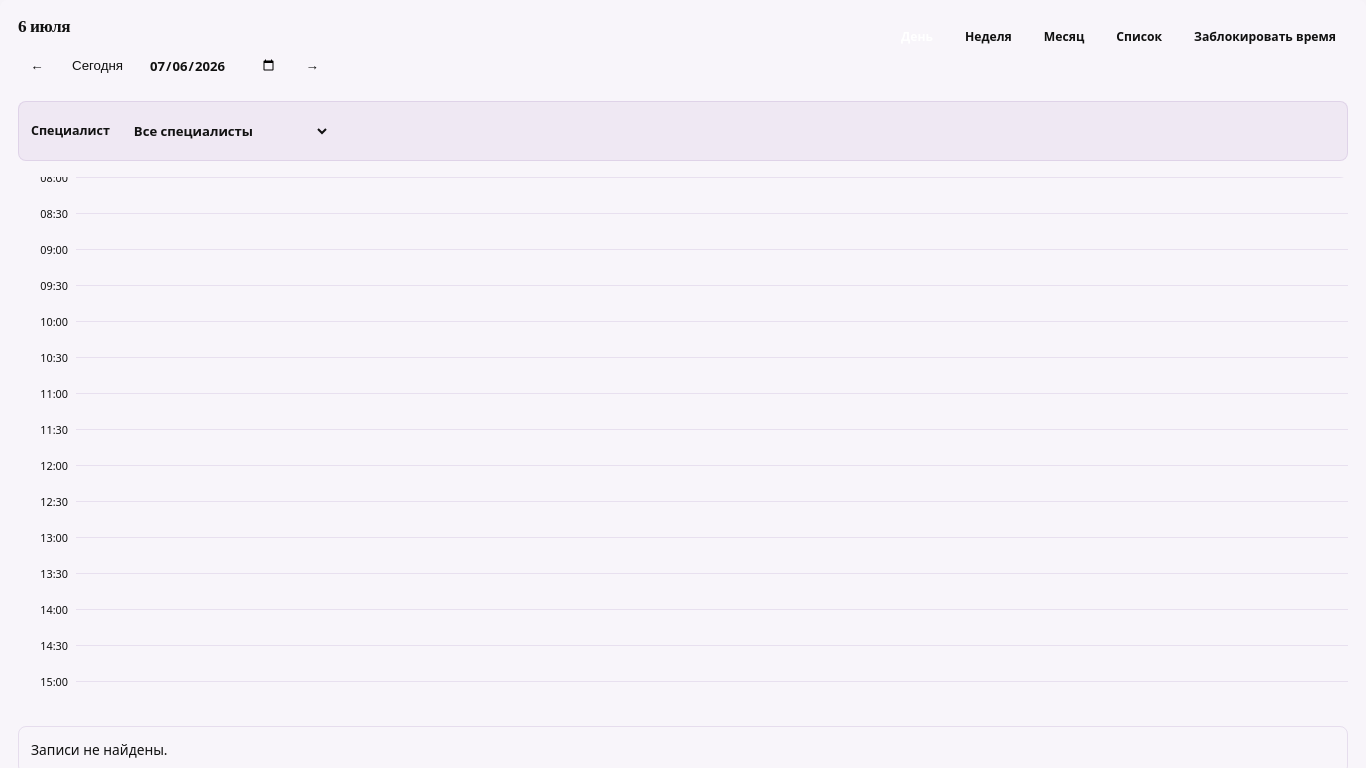
Test: CalendarWorkspace › jumps to an exact date from the toolbar date picker
(page scrolled)
Type "2026-07-12" into the date field named "Выбрать дату" at (213, 66), box [139,47,287,85]
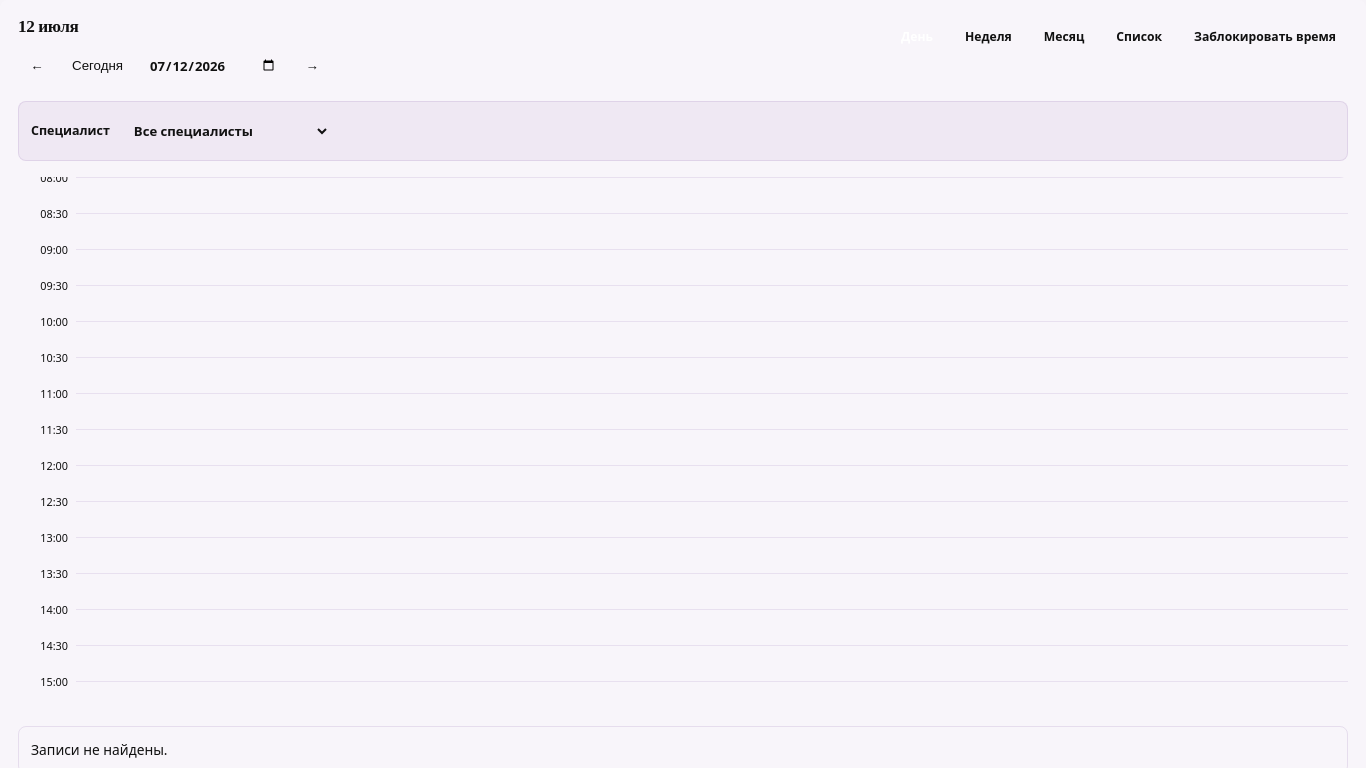
Result: the heading "12 июля" is shown at [18,17,78,36]
